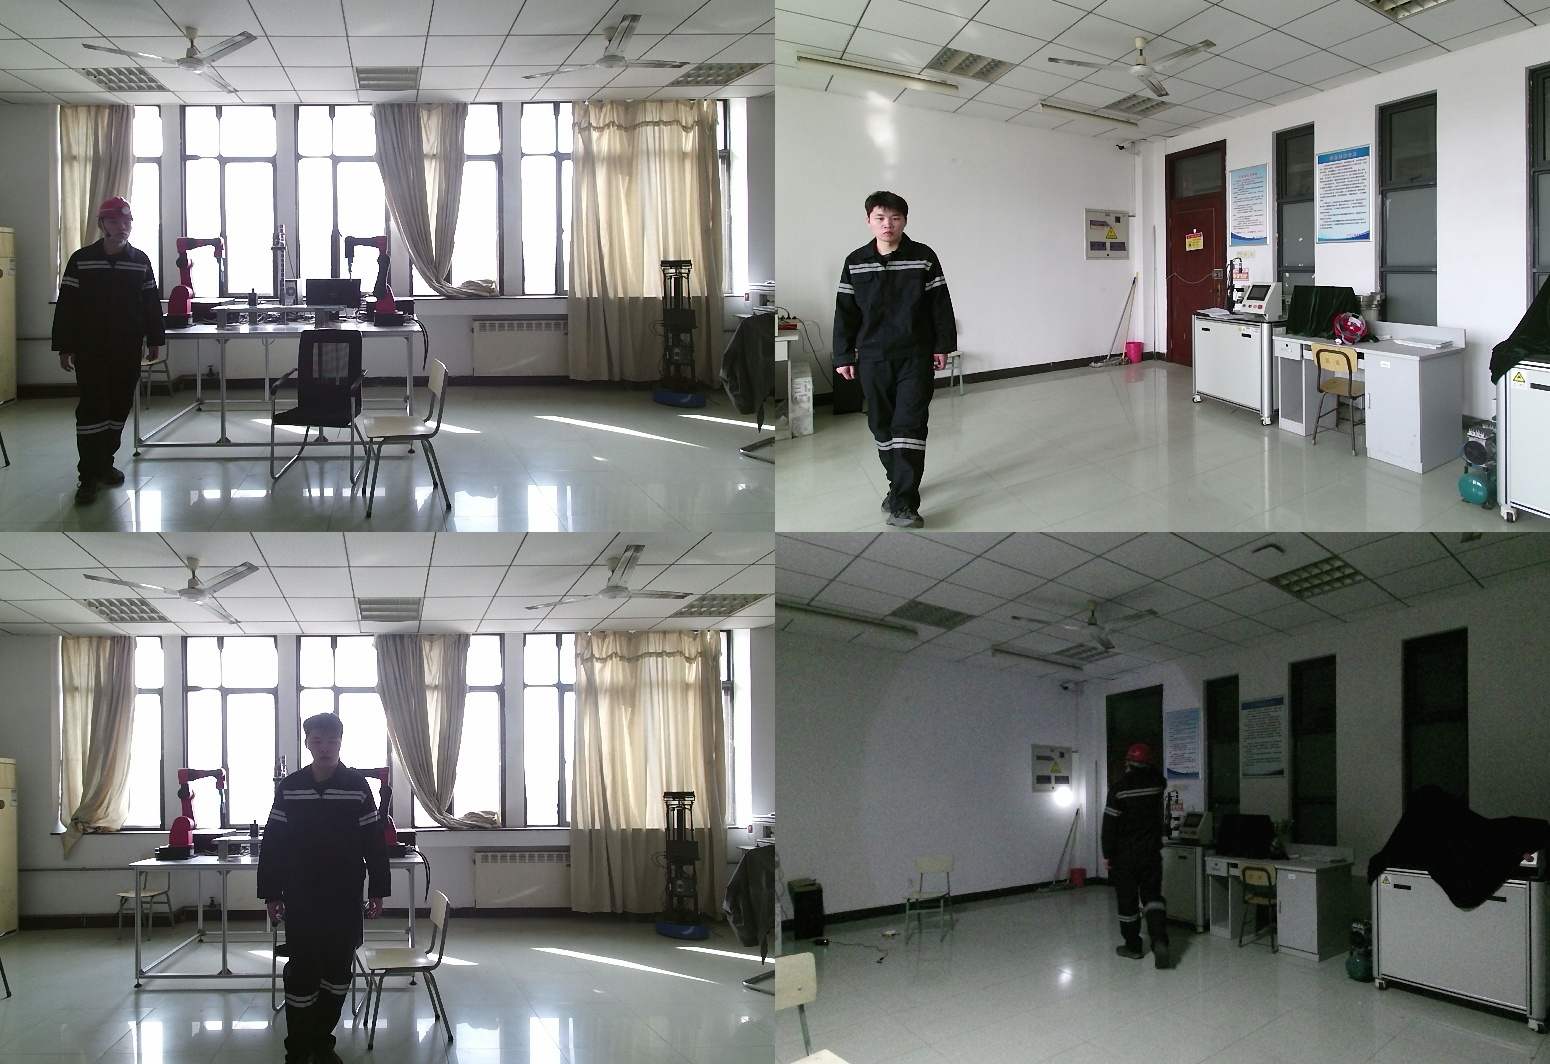person: (262, 712, 399, 1064), (830, 188, 964, 532), (54, 198, 167, 501), (1104, 743, 1184, 971)
